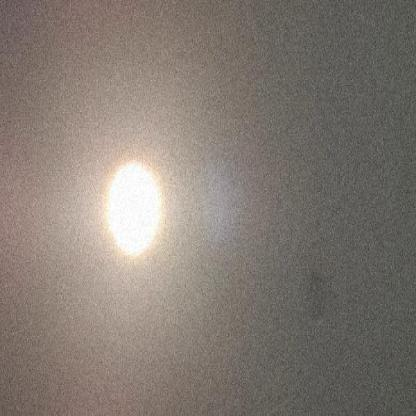light_on: (88, 115, 176, 277)
